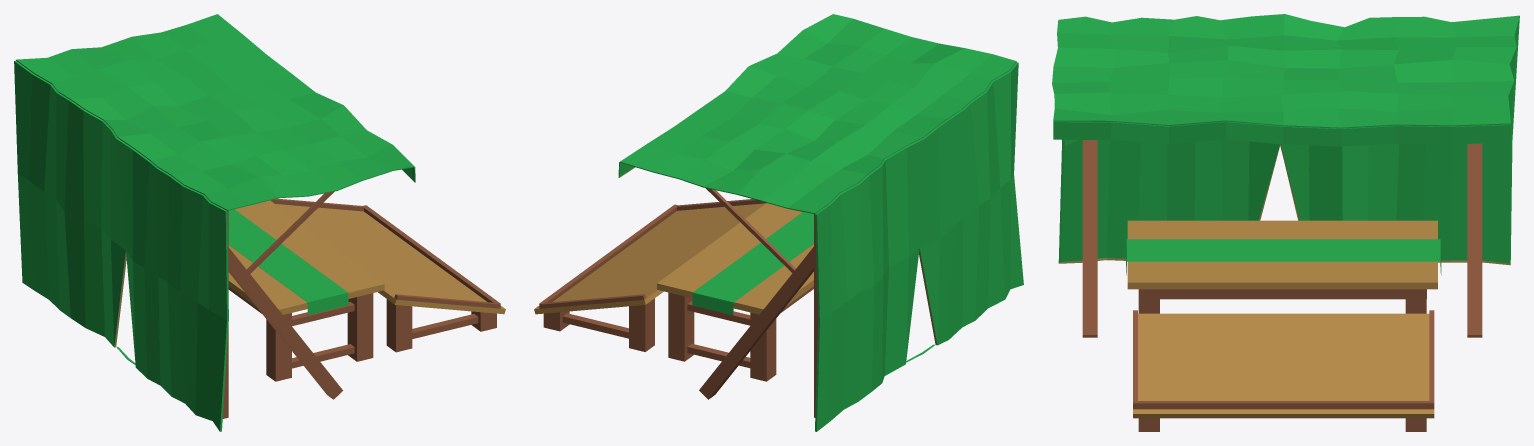
The model's file is BreadStall.fbx.
3 views of the same model, side by side, from view 1: azimuth 30°, elevation 25°; view 2: azimuth 150°, elevation 25°; view 3: azimuth 270°, elevation 25° (orthographic). The views are drawn at different scales.
Parts seen in each view (by area): view 1: Plane.001, Cube.006, Cube.016, Plane, Cube.014, Cube.019; view 2: Plane.001, Cube.006, Cube.016, Plane, Cube.020, Cube.014; view 3: Plane.001, Cube.006, Cube.016, Plane, Cube.014, Cube.019, Cube.020.
Part boxes in pixels (x1,y1,x2,y2): Plane.001: [14, 14, 415, 431]; Cube.006: [270, 198, 505, 352]; Cube.016: [228, 200, 384, 314]; Plane: [228, 209, 348, 314]; Cube.014: [228, 287, 373, 381]; Cube.019: [222, 191, 342, 418]; Plane.001: [618, 14, 1023, 431]; Cube.006: [534, 199, 766, 351]; Cube.016: [657, 203, 813, 314]; Plane: [692, 212, 813, 315]; Cube.020: [699, 188, 817, 417]; Cube.014: [668, 286, 813, 381]; Plane.001: [1052, 14, 1519, 265]; Cube.006: [1133, 310, 1434, 431]; Cube.016: [1127, 220, 1437, 289]; Plane: [1126, 239, 1441, 275]; Cube.014: [1138, 289, 1426, 313]; Cube.019: [1082, 140, 1097, 337]; Cube.020: [1467, 143, 1482, 337].
Bounding box in the file's own units: 1587 × 1079 × 1776.
1 material, 1 textured.
